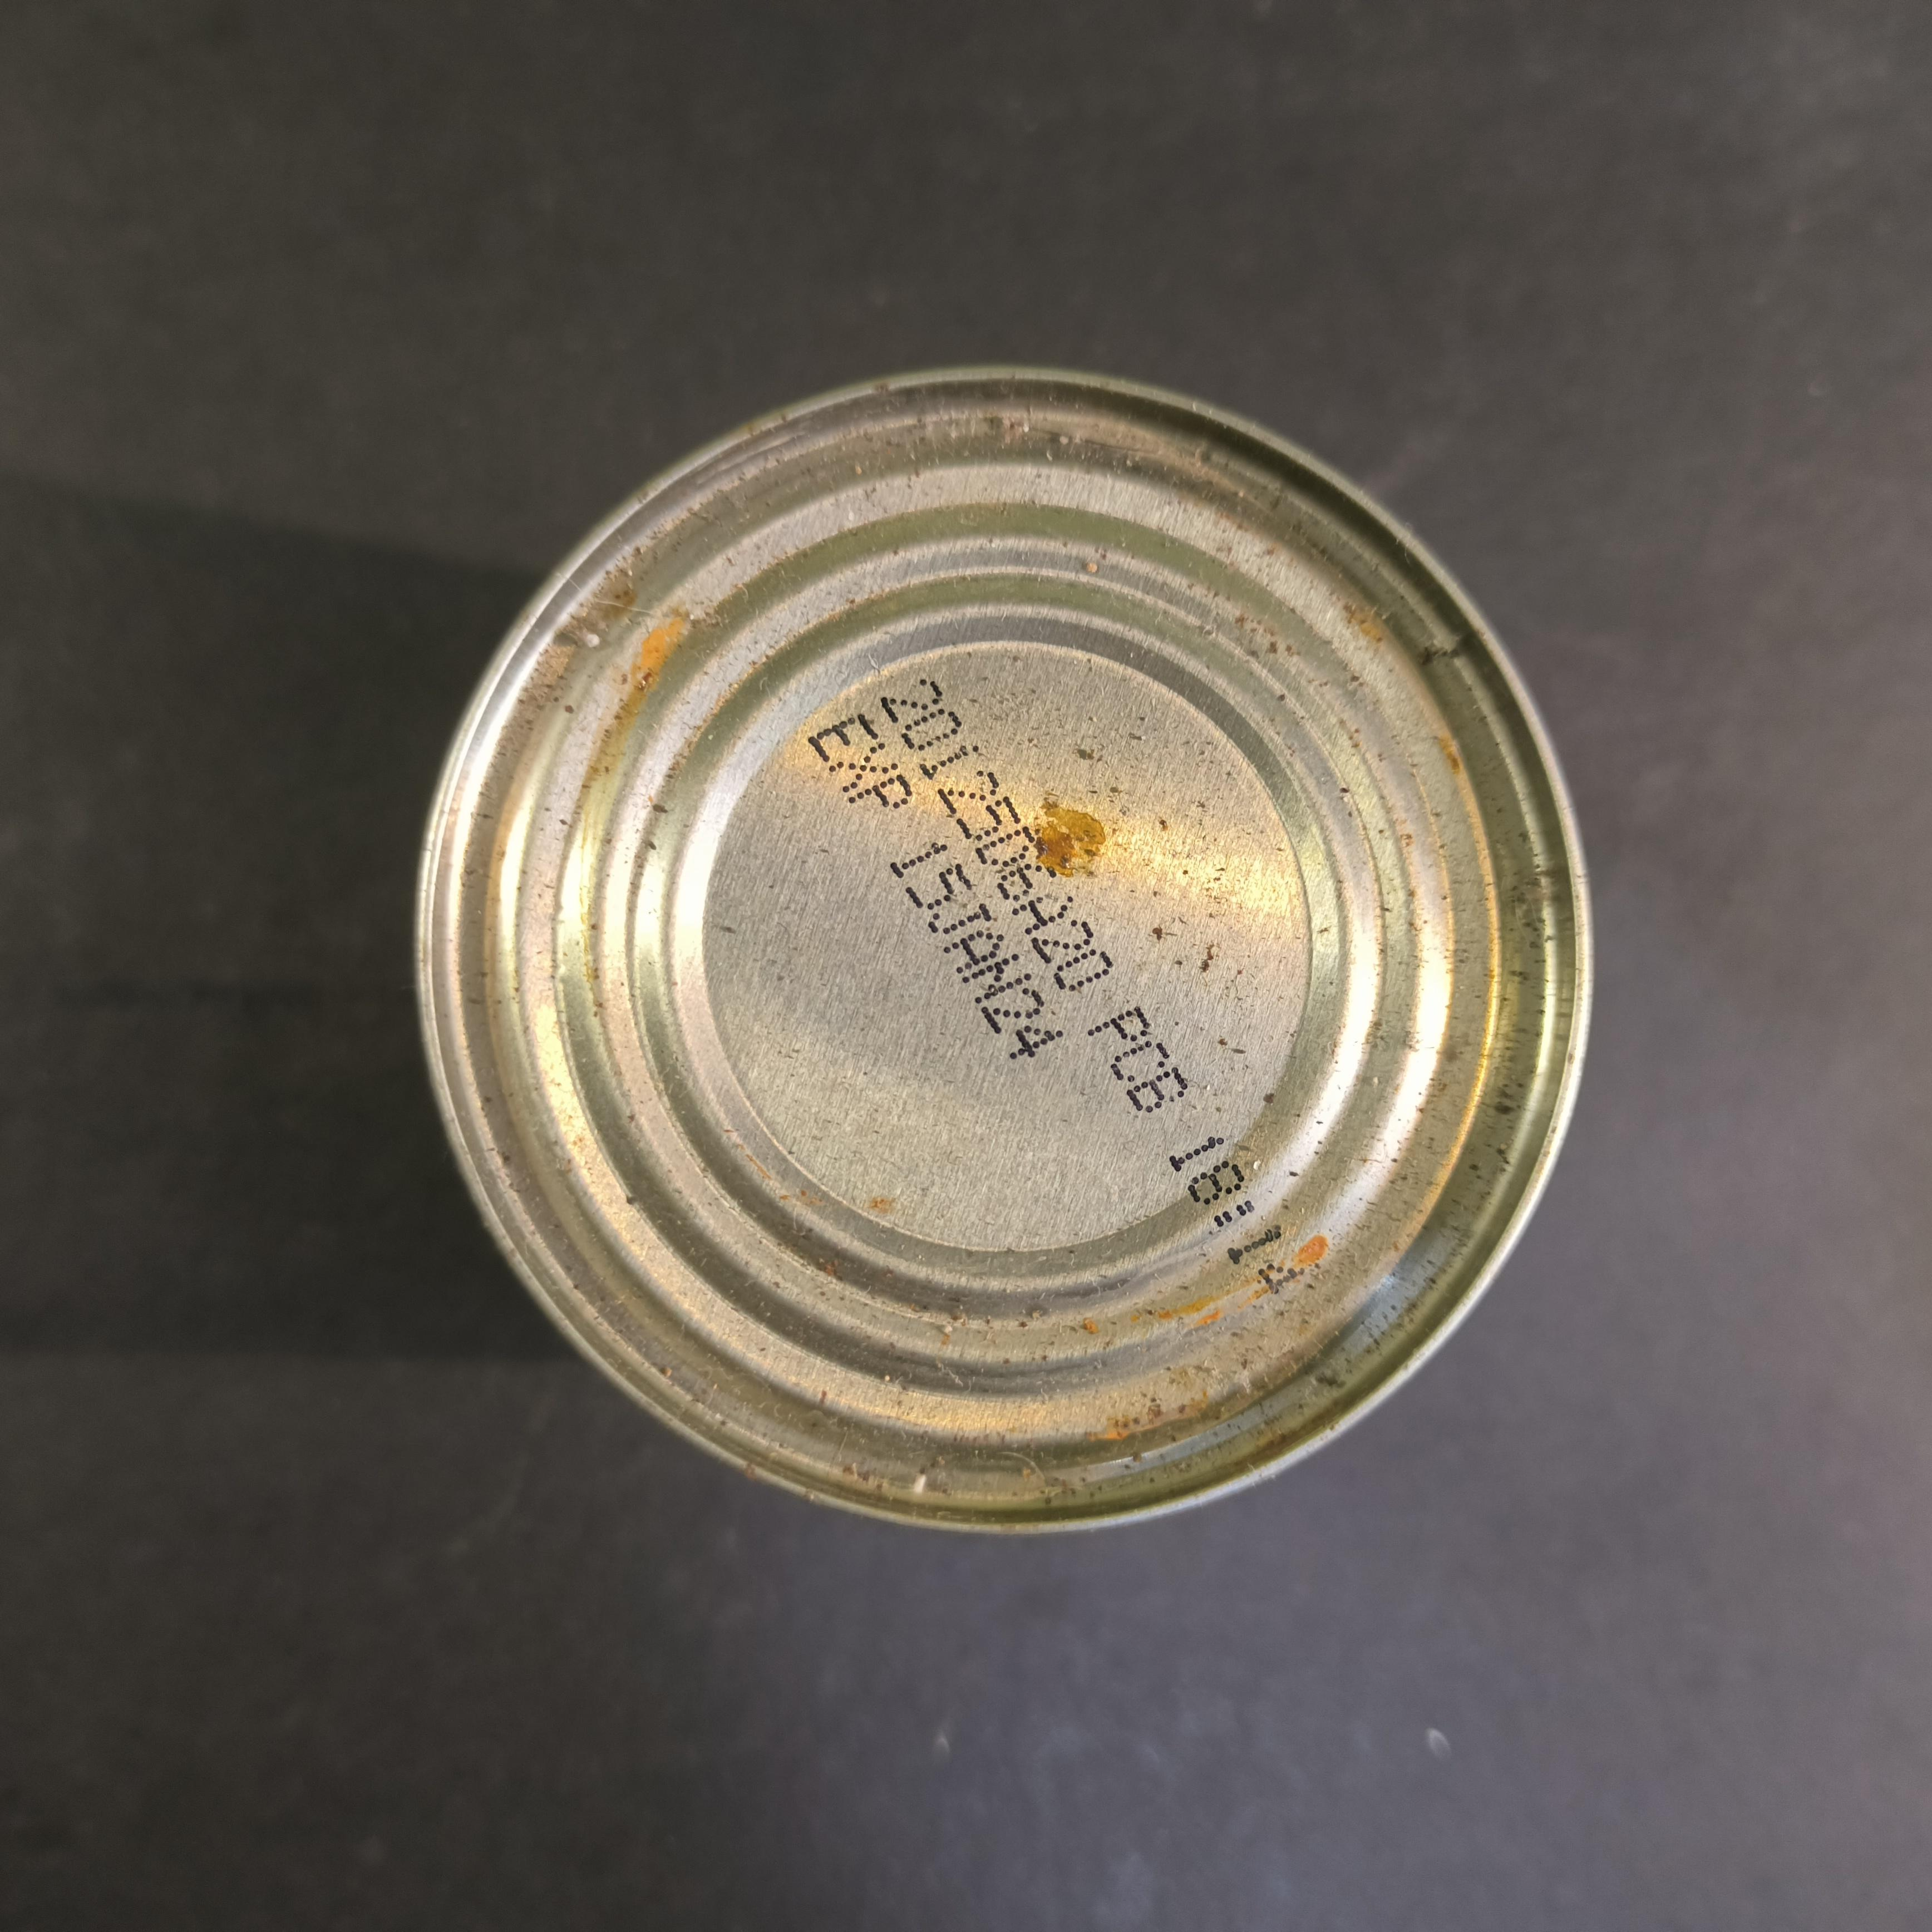Minor Defect: (412, 361, 1599, 1539)
